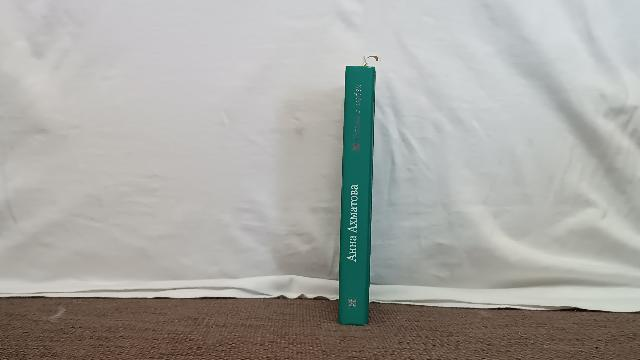book-s-spine: (338, 66, 375, 326)
